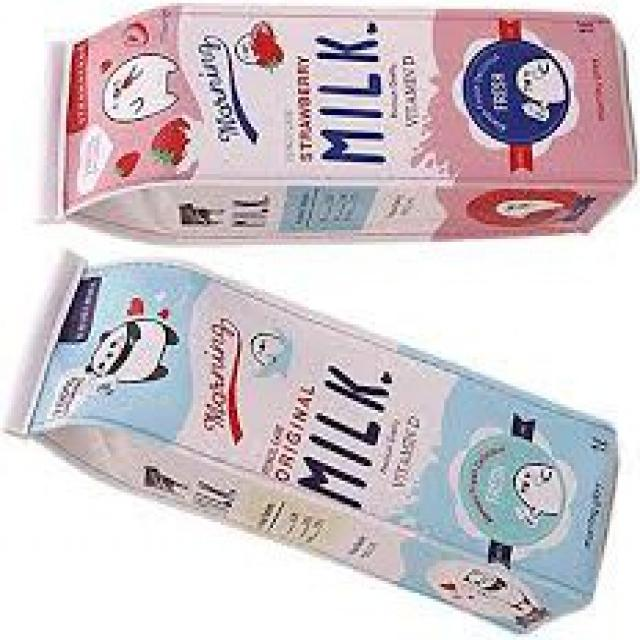non_white_jug: (30, 265, 618, 621), (36, 0, 640, 248)
